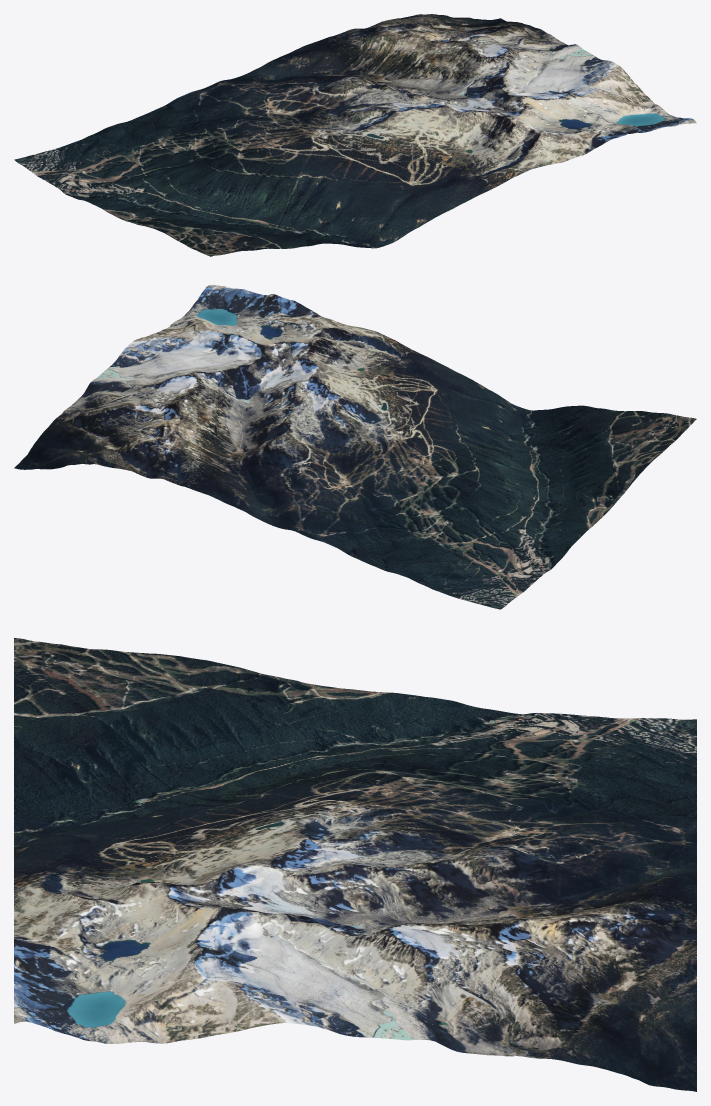
File: whistlerblackcomb3.glb
3 views of the same model, one above another, from view 1: azimuth 30°, elevation 25°; view 2: azimuth 150°, elevation 25°; view 3: azimuth 270°, elevation 25° (orthographic). The views are drawn at different scales.
Parts seen in each view (by area): view 1: EXPORT_GOOGLE_SAT_WM; view 2: EXPORT_GOOGLE_SAT_WM; view 3: EXPORT_GOOGLE_SAT_WM.
Boxes of the visible parts, bbox=[...] form: EXPORT_GOOGLE_SAT_WM: bbox=[14, 14, 696, 256]; EXPORT_GOOGLE_SAT_WM: bbox=[14, 285, 696, 609]; EXPORT_GOOGLE_SAT_WM: bbox=[14, 638, 696, 1091].
Size of the model in its own units: 12230 by 1768 by 8561.
Materials: 1 (1 with a texture image).
